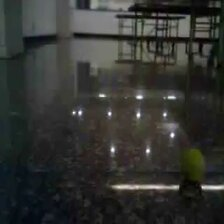tennis: (179, 148, 206, 183)
